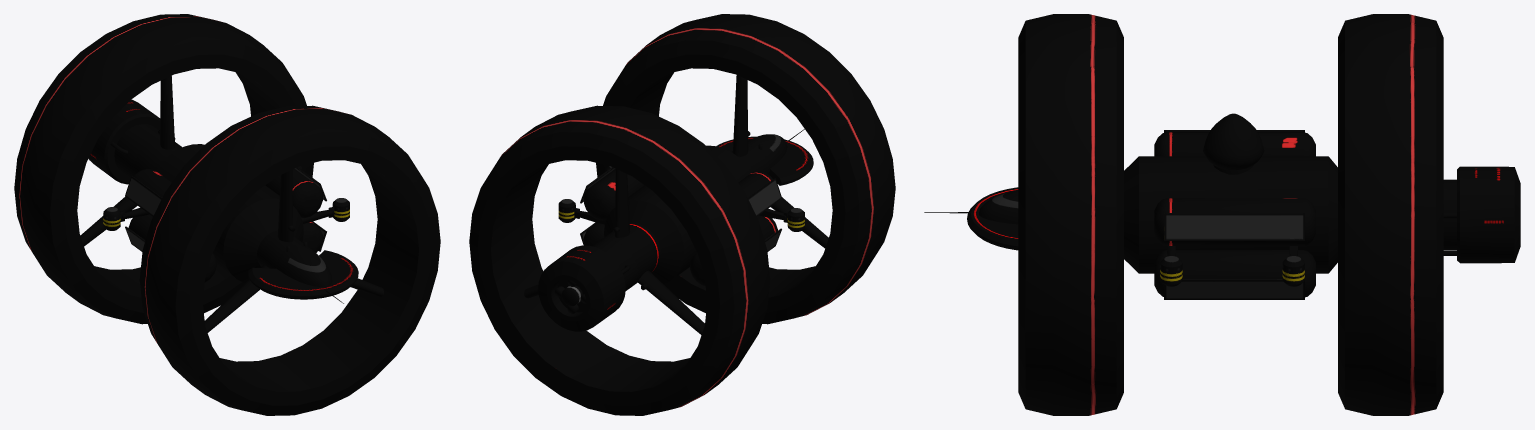
The model's file is Kamikaze_destroyed.fbx.
3 views of the same model, side by side, from view 1: azimuth 30°, elevation 25°; view 2: azimuth 150°, elevation 25°; view 3: azimuth 270°, elevation 25° (orthographic). The views are drawn at different scales.
Parts seen in each view (by area): view 1: Mothership_Hull_1_fracturepart8_5, Mothership_Hull_1_fracturepart20, Mothership_Hull_1_fracturepart7_6, Mothership_Hull_1_fracturepart9_2, Mothership_Hull_1_fracturepart5, Mothership_Hull_1_fracturepart13, Mothership_Hull_1_fracturepart16, Mothership_Hull_1_fracturepart19_5, Mothership_Hull_1_fracturepart17, Mothership_Hull_1_fracturepart3_5, Mothership_Hull_1_fracturepart8_12, Mothership_Hull_1_fracturepart12 (+19 smaller); view 2: Mothership_Hull_1_fracturepart8_5, Mothership_Hull_1_fracturepart20, Mothership_Hull_1_fracturepart13, Mothership_Hull_1_fracturepart5, Mothership_Hull_1_fracturepart7_6, Mothership_Hull_1_fracturepart17, Mothership_Hull_1_fracturepart11, Mothership_Hull_1_fracturepart15, Mothership_Hull_1_fracturepart3_5, Mothership_Hull_1_fracturepart4, Mothership_Hull_1_fracturepart12, Mothership_Hull_1_fracturepart10_2 (+20 smaller); view 3: Mothership_Hull_1_fracturepart5, Mothership_Hull_1_fracturepart20, Mothership_Hull_1_fracturepart19_5, Mothership_Hull_1_fracturepart4, Mothership_Hull_1_fracturepart6_7, Mothership_Hull_1_fracturepart17, Mothership_Hull_1_fracturepart10_2, Mothership_Hull_1_fracturepart15, Mothership_Hull_1_fracturepart6_2, Mothership_Hull_1_fracturepart9_2, Mothership_Hull_1_fracturepart6_3, Mothership_Hull_1_fracturepart6_6 (+10 smaller).
Part boxes in pixels (x1,y1,x2,y2): Mothership_Hull_1_fracturepart8_5: (139,110,301,320); Mothership_Hull_1_fracturepart20: (63,14,293,100); Mothership_Hull_1_fracturepart7_6: (24,67,149,219); Mothership_Hull_1_fracturepart9_2: (294,296,424,409); Mothership_Hull_1_fracturepart5: (270,105,436,221); Mothership_Hull_1_fracturepart13: (14,134,136,320); Mothership_Hull_1_fracturepart16: (146,305,302,415); Mothership_Hull_1_fracturepart19_5: (353,187,440,310); Mothership_Hull_1_fracturepart17: (88,99,160,184); Mothership_Hull_1_fracturepart3_5: (141,296,317,413); Mothership_Hull_1_fracturepart8_12: (217,197,278,260); Mothership_Hull_1_fracturepart12: (125,265,244,324); Mothership_Hull_1_fracturepart8_5: (721,21,895,230); Mothership_Hull_1_fracturepart20: (498,105,695,205); Mothership_Hull_1_fracturepart13: (648,251,770,411); Mothership_Hull_1_fracturepart5: (603,14,774,111); Mothership_Hull_1_fracturepart7_6: (667,137,769,273); Mothership_Hull_1_fracturepart17: (538,240,637,328); Mothership_Hull_1_fracturepart11: (522,339,659,415); Mothership_Hull_1_fracturepart15: (470,248,552,363); Mothership_Hull_1_fracturepart3_5: (699,223,870,324); Mothership_Hull_1_fracturepart4: (469,155,548,256); Mothership_Hull_1_fracturepart12: (548,323,688,377); Mothership_Hull_1_fracturepart10_2: (510,185,554,324); Mothership_Hull_1_fracturepart5: (1018,27,1123,253); Mothership_Hull_1_fracturepart20: (1338,14,1443,190); Mothership_Hull_1_fracturepart19_5: (1018,242,1123,384); Mothership_Hull_1_fracturepart4: (1338,171,1443,317); Mothership_Hull_1_fracturepart6_7: (1124,157,1334,273); Mothership_Hull_1_fracturepart17: (1443,166,1520,263); Mothership_Hull_1_fracturepart10_2: (1338,237,1399,407); Mothership_Hull_1_fracturepart15: (1371,297,1443,410); Mothership_Hull_1_fracturepart6_2: (1164,213,1304,240); Mothership_Hull_1_fracturepart9_2: (1018,357,1123,415); Mothership_Hull_1_fracturepart6_3: (1154,198,1315,245); Mothership_Hull_1_fracturepart6_6: (1203,119,1263,174).
Bounding box in the file's own units: 14.47 × 14.4 × 21.39.
1 material, 1 textured.
